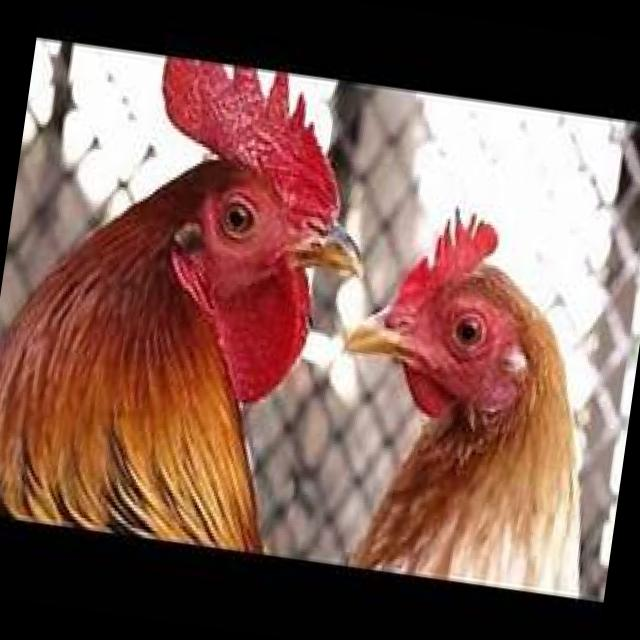animal: (0, 32, 393, 563), (316, 190, 632, 599)
